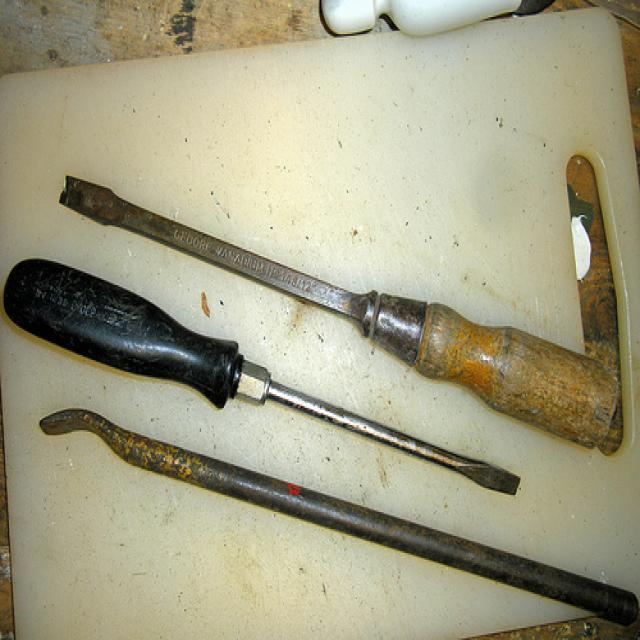screwdriver: (51, 167, 618, 449), (0, 244, 529, 539)
